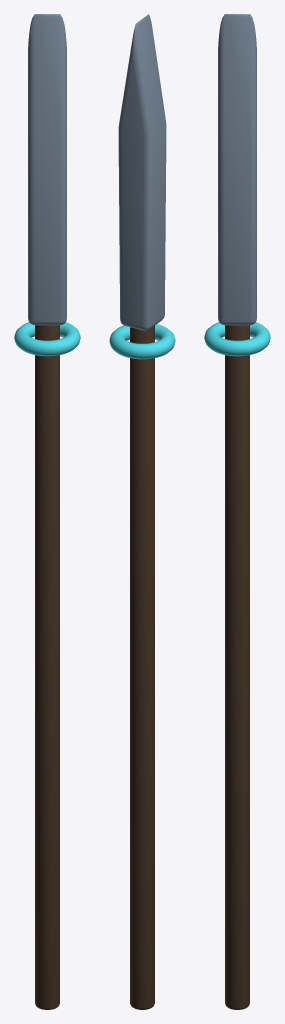
The model's file is spear_v5.glb.
3 renders of one model, left to right at view 1: azimuth 90°, elevation 25°; view 2: azimuth 150°, elevation 25°; view 3: azimuth 270°, elevation 25°, orthographic.
Visible parts, largest first — view 1: POLE_SECONDARY, PIKE_SPEARHEAD_PRIMARY, SPEAR_COLLAR_ACCENT; view 2: POLE_SECONDARY, PIKE_SPEARHEAD_PRIMARY, SPEAR_COLLAR_ACCENT; view 3: POLE_SECONDARY, PIKE_SPEARHEAD_PRIMARY, SPEAR_COLLAR_ACCENT.
Boxes of the visible parts, left/top/right/bottom form: POLE_SECONDARY: left=35, top=325, right=59, bottom=1009; PIKE_SPEARHEAD_PRIMARY: left=28, top=14, right=66, bottom=325; SPEAR_COLLAR_ACCENT: left=14, top=322, right=80, bottom=356; POLE_SECONDARY: left=130, top=325, right=154, bottom=1009; PIKE_SPEARHEAD_PRIMARY: left=118, top=14, right=166, bottom=330; SPEAR_COLLAR_ACCENT: left=109, top=324, right=175, bottom=359; POLE_SECONDARY: left=225, top=325, right=249, bottom=1009; PIKE_SPEARHEAD_PRIMARY: left=218, top=14, right=256, bottom=325; SPEAR_COLLAR_ACCENT: left=204, top=322, right=270, bottom=356.
Size of the model in its own units: 0.34 by 5.6 by 0.34.
